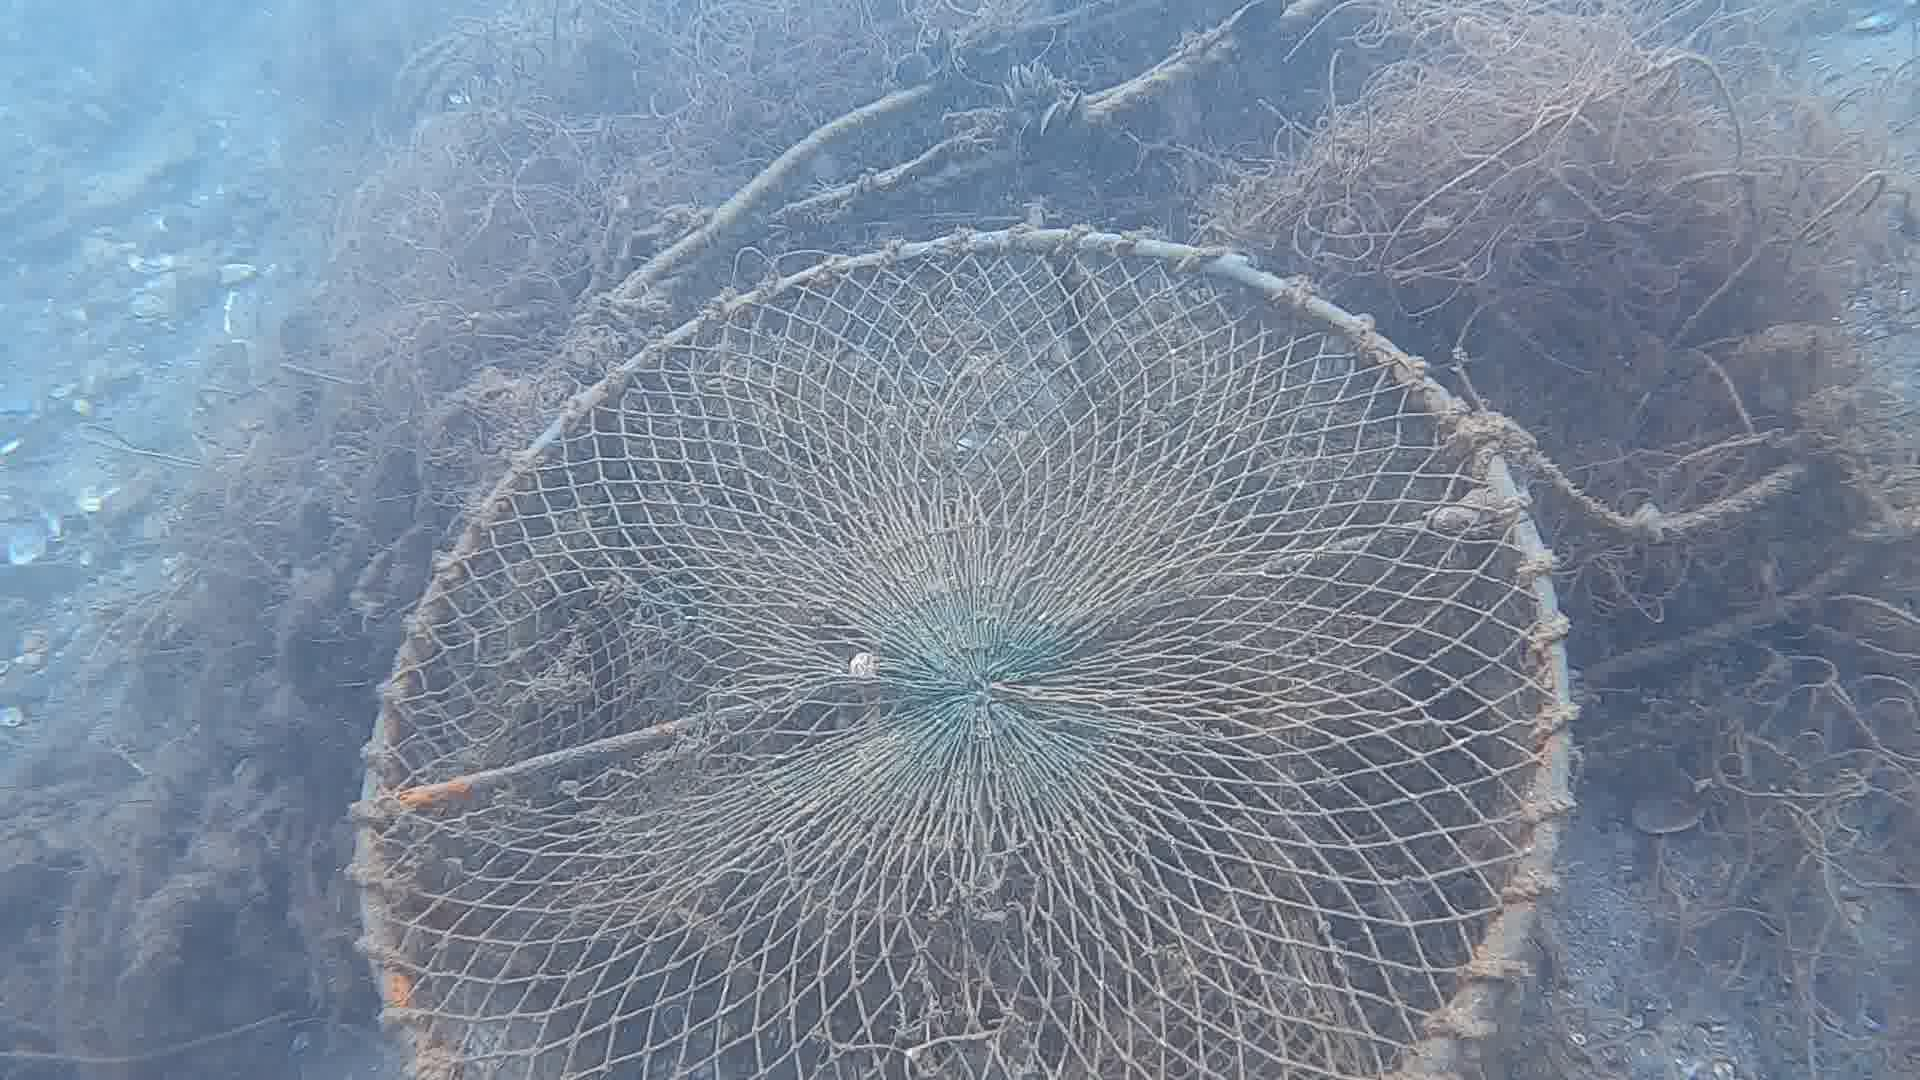circular fish trap: (356, 232, 1572, 1080)
